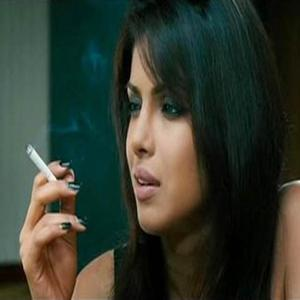cigarette: (24, 143, 58, 186)
